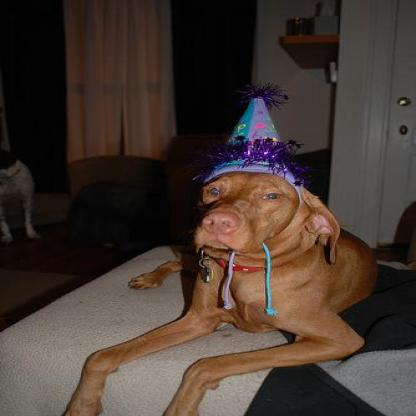vizsla: (61, 168, 376, 414)
